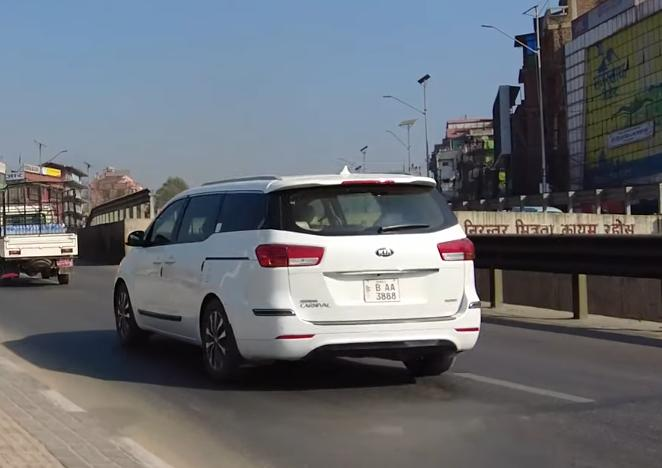SUV: (111, 165, 483, 388)
transport_vehicle: (0, 179, 85, 286)
